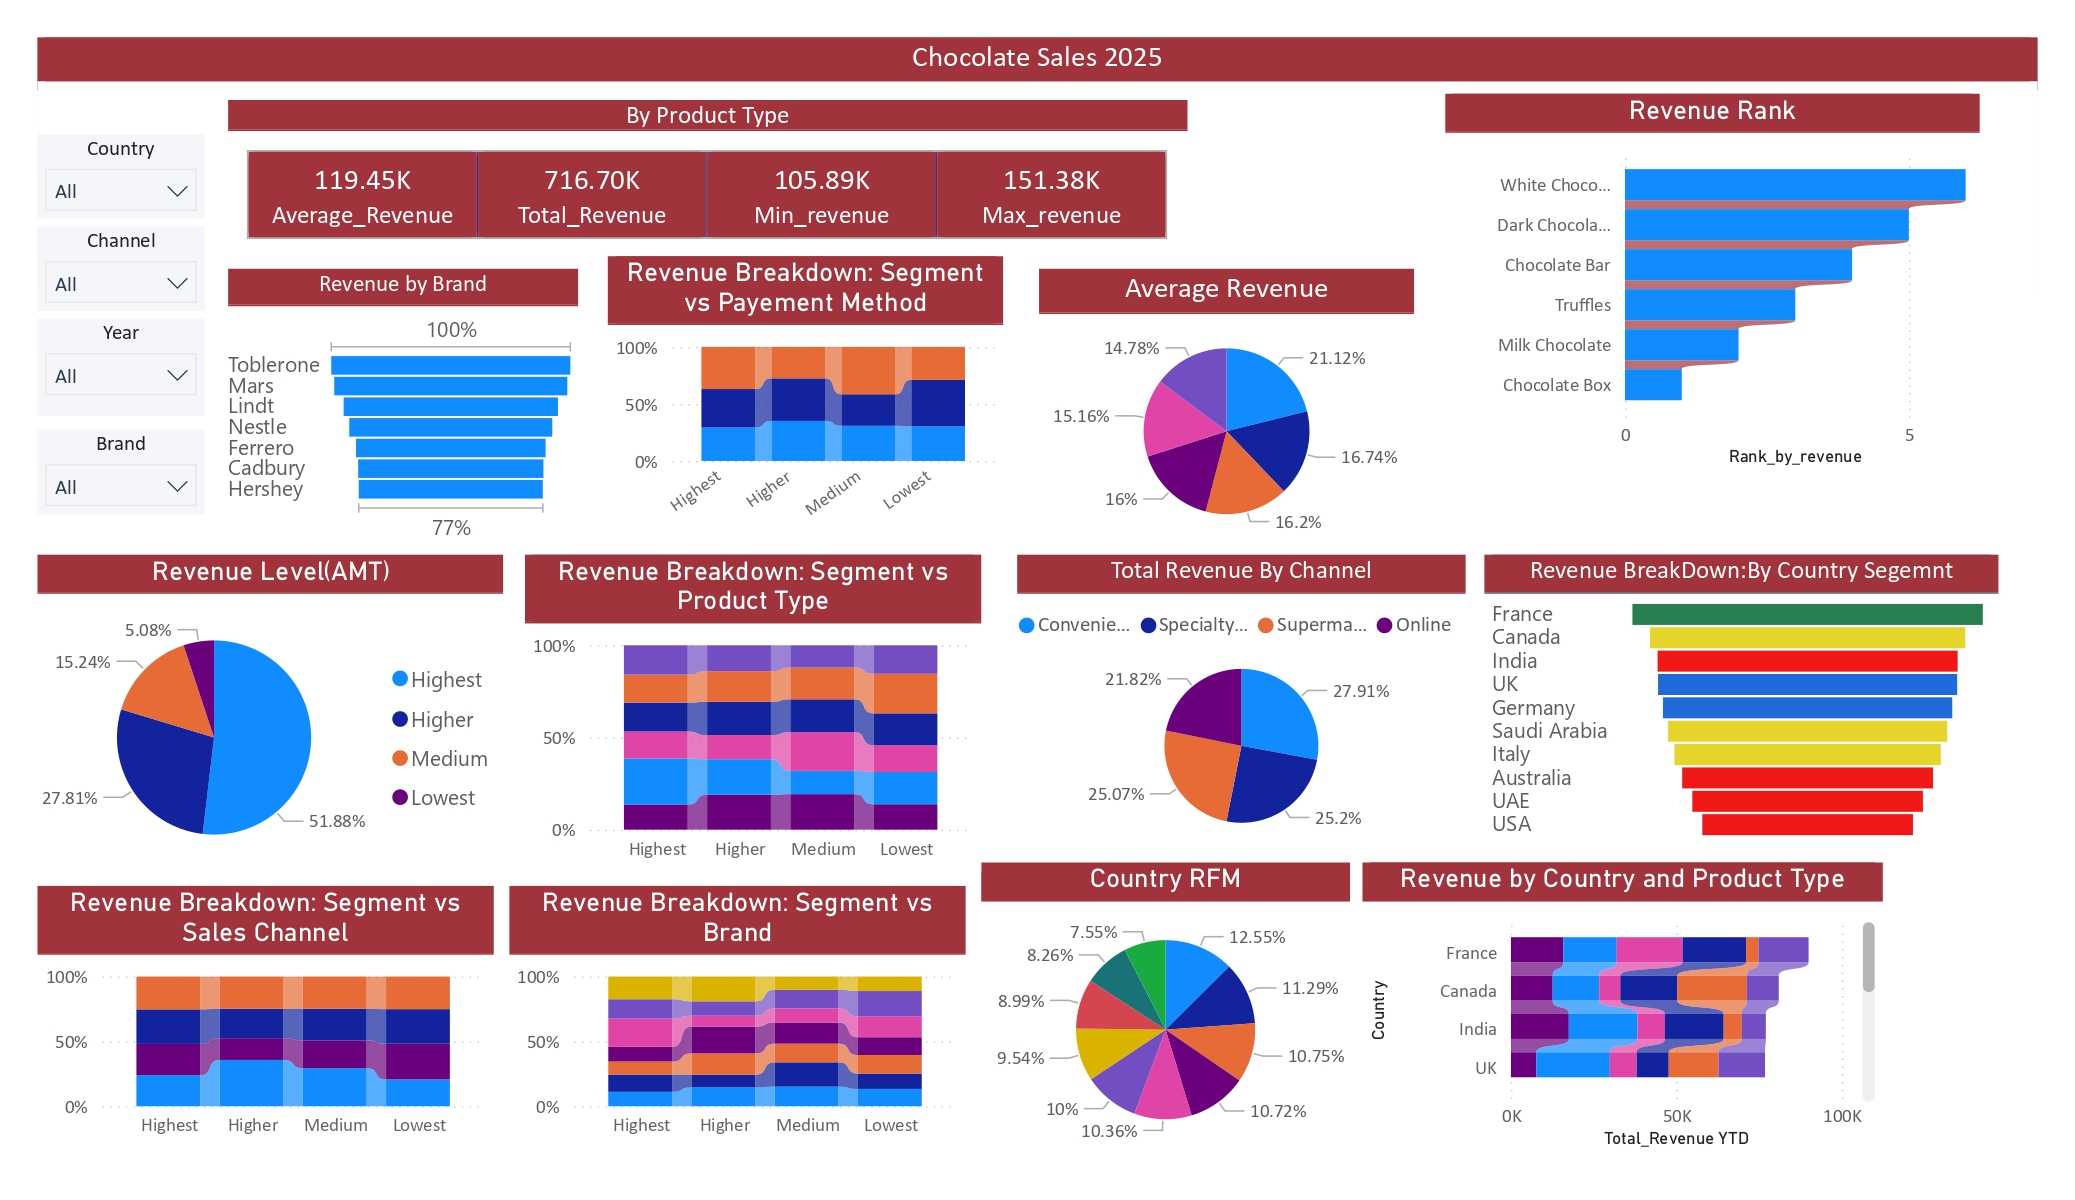

This screenshot's page, from the dashboard's own definition file:
{"tool":"powerbi","page":{"name":"Page 1","canvas":[1280,720],"ordinal":0},"visuals":[{"type":"barChart","title":"Revenue Rank","fields":{"Category":["chocolate_sales_2025_dataset.Product_Type"],"Y":["chocolate_sales_2025_dataset.Rank_by_revenue"]},"box":[900.9,36.2,342.2,242.2],"z":0},{"type":"pieChart","title":"Average Revenue","fields":{"Category":["chocolate_sales_2025_dataset.Product_Type"],"Y":["chocolate_sales_2025_dataset.Sum of Revenue_USD average per Product_Type"]},"box":[640.5,148.3,240.5,172.4],"z":1000},{"type":"cardVisual","title":"By Product Type","fields":{"Data":["chocolate_sales_2025_dataset.Average_Revenue","chocolate_sales_2025_dataset.Total_Revenue","chocolate_sales_2025_dataset.Min_revenue","chocolate_sales_2025_dataset.Max_revenue"]},"box":[122.4,39.7,613.8,100],"z":2000},{"type":"textbox","title":"Chocolate Sales 2025","box":[0,0,1280.2,28.4],"z":3000},{"type":"pieChart","title":"Revenue Level(AMT)","fields":{"Category":["chocolate_sales_2025_dataset.Reevenue_Segment"],"Y":["Sum(chocolate_sales_2025_dataset.Revenue_USD)"]},"box":[0,331,298.3,203.4],"z":4000},{"type":"pieChart","title":"Country RFM","fields":{"Category":["chocolate_sales_2025_dataset.Country"],"Y":["chocolate_sales_2025_dataset.Total_Revenue"]},"box":[604.3,527.6,235.3,183.6],"z":5000},{"type":"hundredPercentStackedColumnChart","title":"Revenue Breakdown: Segment vs Product Type","fields":{"Category":["chocolate_sales_2025_dataset.Revenue_Segment"],"Series":["chocolate_sales_2025_dataset.Product_Type"],"Y":["chocolate_sales_2025_dataset.Total_Revenue YTD"]},"box":[312.1,331,292.2,203.4],"z":6000},{"type":"hundredPercentStackedColumnChart","title":"Revenue Breakdown: Segment vs  Sales Channel","fields":{"Category":["chocolate_sales_2025_dataset.Revenue_Segment"],"Series":["chocolate_sales_2025_dataset.Sales_Channel"],"Y":["chocolate_sales_2025_dataset.Total_Revenue YTD"]},"box":[0,543.1,292.2,168.1],"z":7000},{"type":"hundredPercentStackedColumnChart","title":"Revenue Breakdown: Segment vs  Brand","fields":{"Category":["chocolate_sales_2025_dataset.Revenue_Segment"],"Series":["chocolate_sales_2025_dataset.Brand"],"Y":["chocolate_sales_2025_dataset.Total_Revenue YTD"]},"box":[301.7,543.1,292.2,168.1],"z":8000},{"type":"barChart","title":"Revenue by Country and Product Type","fields":{"Category":["chocolate_sales_2025_dataset.Country"],"Y":["chocolate_sales_2025_dataset.Total_Revenue YTD"],"Series":["chocolate_sales_2025_dataset.Product_Type"]},"box":[848.3,527.6,332.8,187.9],"z":9000},{"type":"slicer","title":"Year","fields":{"Values":["chocolate_sales_2025_dataset.Date.Variation.Date Hierarchy.Year","chocolate_sales_2025_dataset.Date.Variation.Date Hierarchy.Quarter","chocolate_sales_2025_dataset.Date.Variation.Date Hierarchy.Month"]},"box":[0,180.2,106.9,62.1],"z":10000},{"type":"pieChart","title":"Total Revenue By Channel","fields":{"Category":["chocolate_sales_2025_dataset.Sales_Channel"],"Y":["chocolate_sales_2025_dataset.Total_Revenue YTD"]},"box":[626.7,331,287.1,185.3],"z":11000},{"type":"slicer","title":"Country","fields":{"Values":["chocolate_sales_2025_dataset.Country"]},"box":[0,62.1,106.9,54.3],"z":12000},{"type":"slicer","title":"Channel","fields":{"Values":["chocolate_sales_2025_dataset.Sales_Channel"]},"box":[0,120.7,106.9,54.3],"z":13000},{"type":"slicer","title":"Brand","fields":{"Values":["chocolate_sales_2025_dataset.Brand"]},"box":[0,250.9,106.9,54.3],"z":14000},{"type":"funnel","title":"Revenue by Brand","fields":{"Category":["chocolate_sales_2025_dataset.Brand"],"Y":["chocolate_sales_2025_dataset.Total_Revenue"]},"box":[122.4,148.3,223.3,172.4],"z":15000},{"type":"hundredPercentStackedColumnChart","title":"Revenue Breakdown: Segment vs Payement Method","fields":{"Y":["chocolate_sales_2025_dataset.Total_Revenue YTD"],"Series":["chocolate_sales_2025_dataset.Payment_Method"],"Category":["chocolate_sales_2025_dataset.Revenue_Segment"]},"box":[364.7,139.7,253.4,181],"z":16000},{"type":"funnel","title":"Revenue BreakDown:By Country Segemnt","fields":{"Y":["Sum(chocolate_sales_2025_dataset.Revenue_USD)"],"Category":["chocolate_sales_2025_dataset.Country"]},"box":[925.9,331,329.3,185.3],"z":17000}]}

Visuals, with their boxes on the page's 1280x720 design canvas (x1, y1, x2, y2). These are canvas units, not pixel positions in the 2075x1200 screenshot, which may show the page scaled, cropped or inside an application window:
"Revenue Rank" barChart: BBox(901, 36, 1243, 278)
"Average Revenue" pieChart: BBox(640, 148, 881, 321)
"By Product Type" cardVisual: BBox(122, 40, 736, 140)
"Chocolate Sales 2025" textbox: BBox(0, 0, 1280, 28)
"Revenue Level(AMT)" pieChart: BBox(0, 331, 298, 534)
"Country RFM" pieChart: BBox(604, 528, 840, 711)
"Revenue Breakdown: Segment vs Product Type" hundredPercentStackedColumnChart: BBox(312, 331, 604, 534)
"Revenue Breakdown: Segment vs  Sales Channel" hundredPercentStackedColumnChart: BBox(0, 543, 292, 711)
"Revenue Breakdown: Segment vs  Brand" hundredPercentStackedColumnChart: BBox(302, 543, 594, 711)
"Revenue by Country and Product Type" barChart: BBox(848, 528, 1181, 716)
"Year" slicer: BBox(0, 180, 107, 242)
"Total Revenue By Channel" pieChart: BBox(627, 331, 914, 516)
"Country" slicer: BBox(0, 62, 107, 116)
"Channel" slicer: BBox(0, 121, 107, 175)
"Brand" slicer: BBox(0, 251, 107, 305)
"Revenue by Brand" funnel: BBox(122, 148, 346, 321)
"Revenue Breakdown: Segment vs Payement Method" hundredPercentStackedColumnChart: BBox(365, 140, 618, 321)
"Revenue BreakDown:By Country Segemnt" funnel: BBox(926, 331, 1255, 516)
